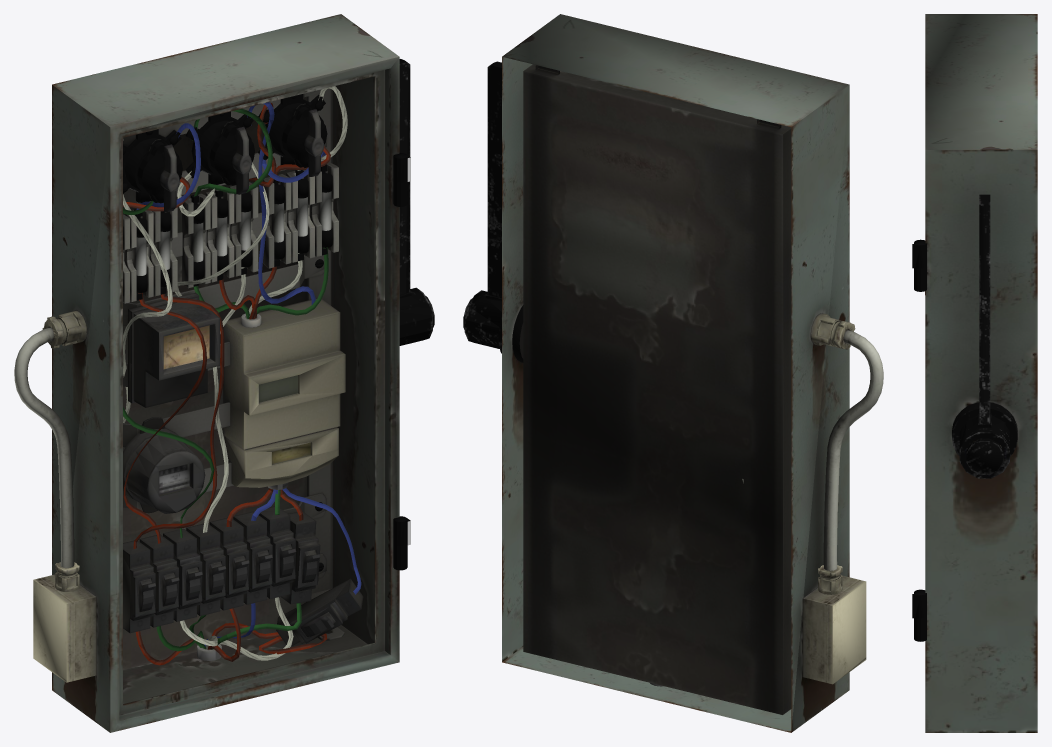
File: Fusebox.glb
The picture shows the model from 3 angles, left to right: view 1: azimuth 30°, elevation 25°; view 2: azimuth 150°, elevation 25°; view 3: azimuth 270°, elevation 25°; orthographic projection. The views are drawn at different scales.
Visible parts, largest first — view 1: desirefx.me_001; view 2: desirefx.me_001; view 3: desirefx.me_001.
Boxes of the visible parts, x1,y1,x2,y2 form: desirefx.me_001: [14, 14, 434, 732]; desirefx.me_001: [463, 14, 883, 732]; desirefx.me_001: [912, 14, 1037, 732].
Bounding box in the file's own units: 0.0576 × 0.0814 × 0.0158.
Materials: 2 (1 with a texture image).
